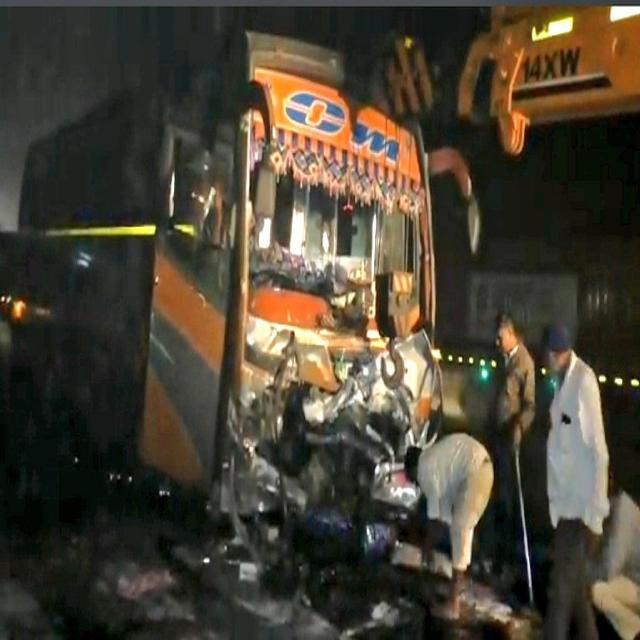accident: (20, 33, 441, 555)
